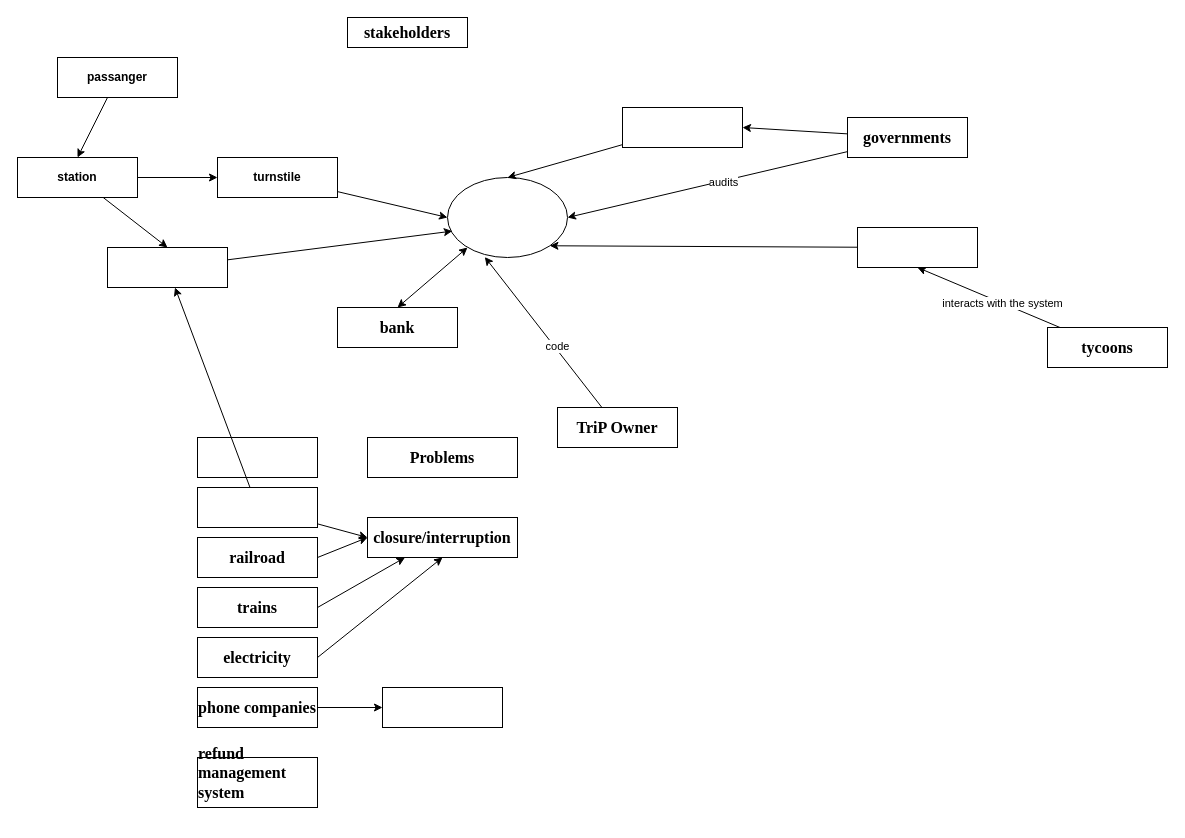
Image size: 1185x838. Some labels were removed from this diagram. The shapes that lost their labels are listed below. From the top down, each one's box as (x1, y1, x2, y2) in pixels, then its label:
(622, 106, 742, 148): documents
(446, 176, 568, 258): system
(106, 246, 228, 288): terminal
(856, 226, 978, 268): tycoon api
(196, 436, 318, 478): external dependencies
(196, 486, 318, 528): stations
(382, 686, 502, 728): complaints
